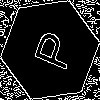P: (25, 25, 76, 73)
